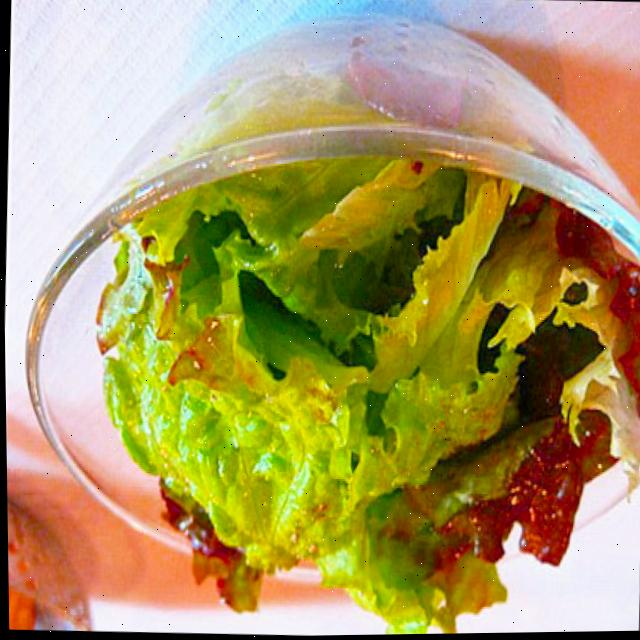蔬菜料理: (34, 30, 640, 619)
